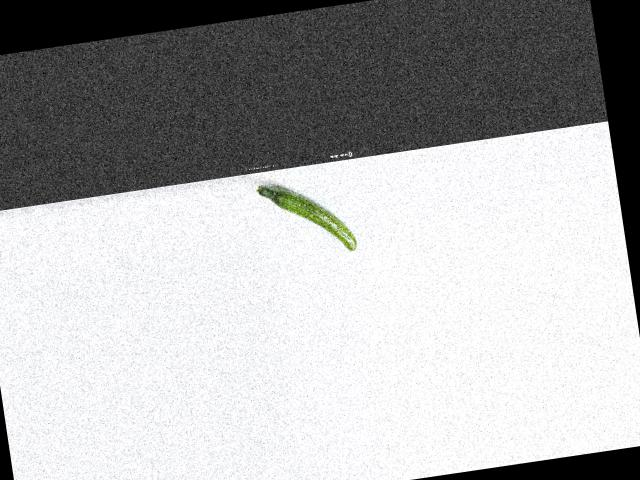cucumber: (255, 173, 356, 263)
